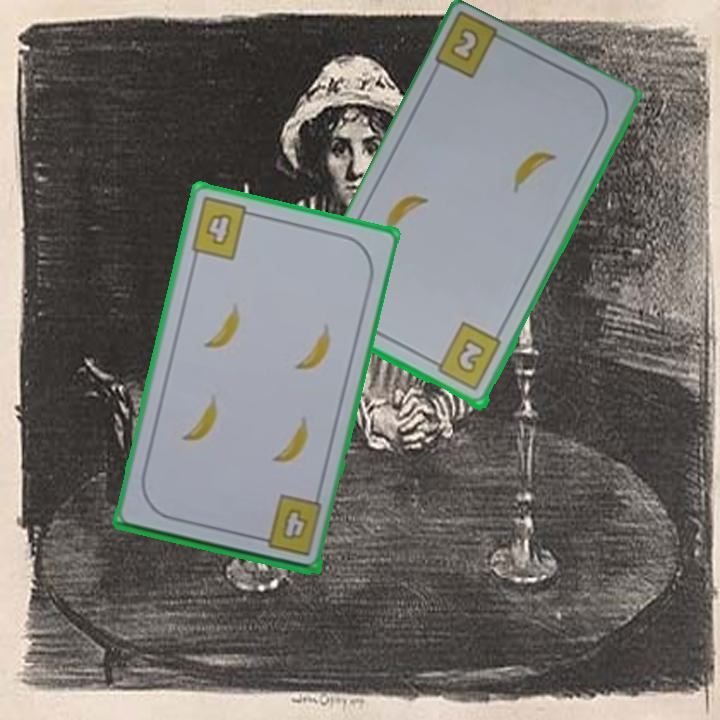2b: (427, 319, 505, 394), (446, 24, 483, 66)
4b: (187, 193, 260, 263), (281, 503, 310, 539)
